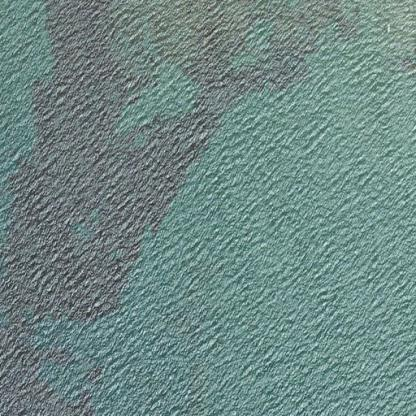ship: (384, 22, 390, 35)
